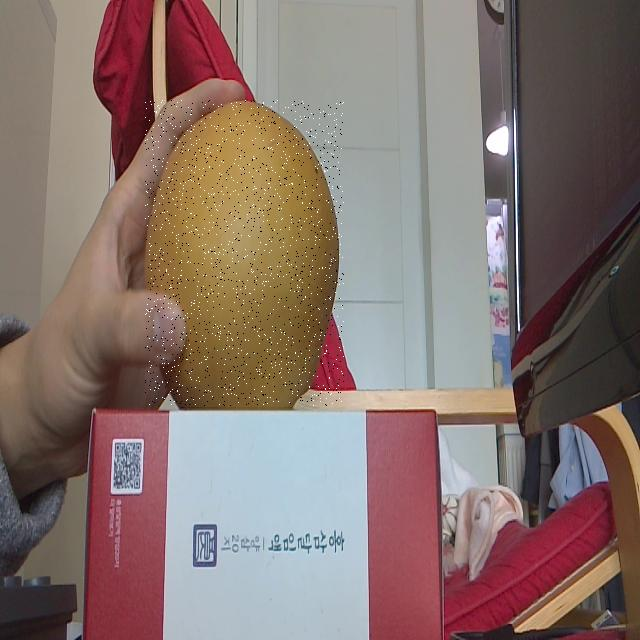pear: (145, 100, 344, 406)
